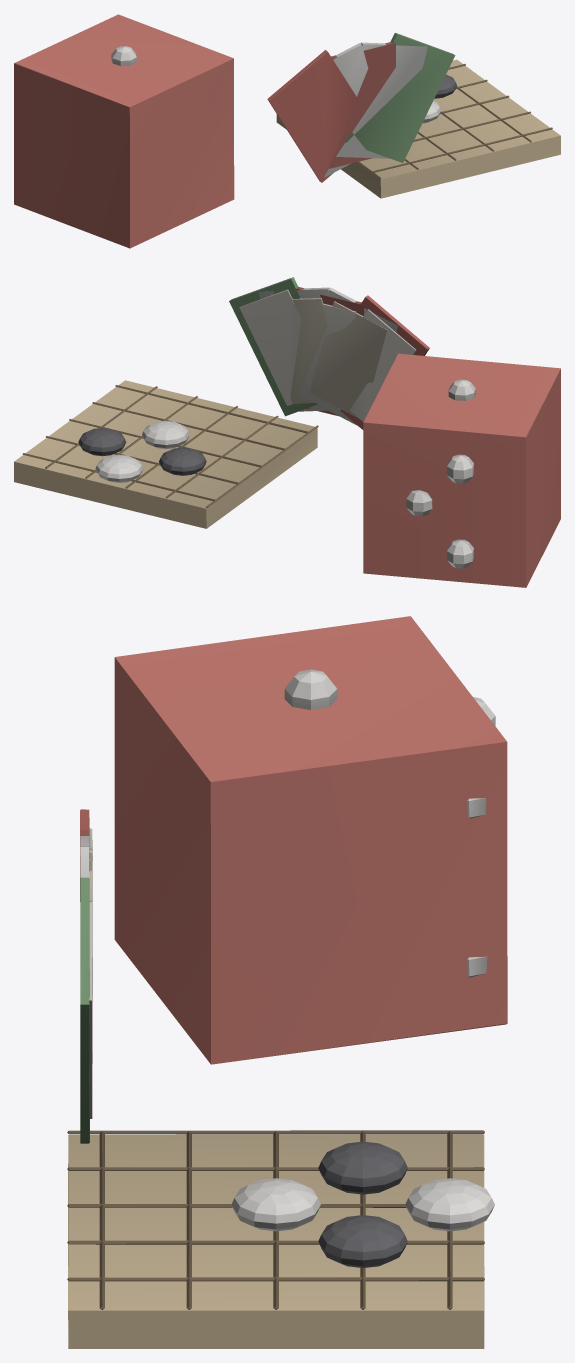
The model's file is games_roof_low.glb.
3 views of the same model, one above another, from view 1: azimuth 30°, elevation 25°; view 2: azimuth 150°, elevation 25°; view 3: azimuth 270°, elevation 25° (orthographic). The views are drawn at different scales.
Size of the model in its own units: 6.13 by 2 by 2.53.
